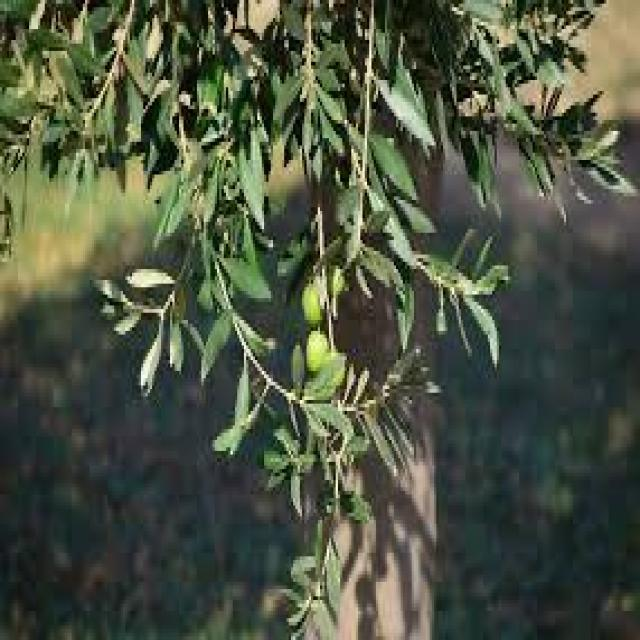Healthy: (306, 330, 331, 375), (302, 283, 324, 326)
